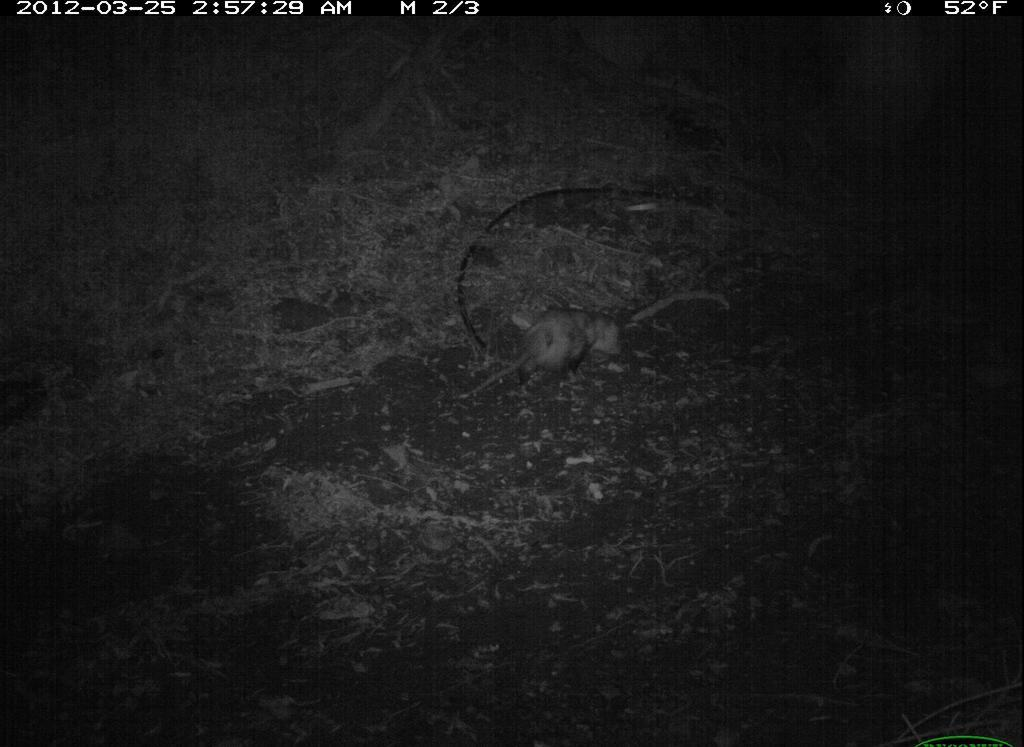opossum: (488, 300, 721, 402)
